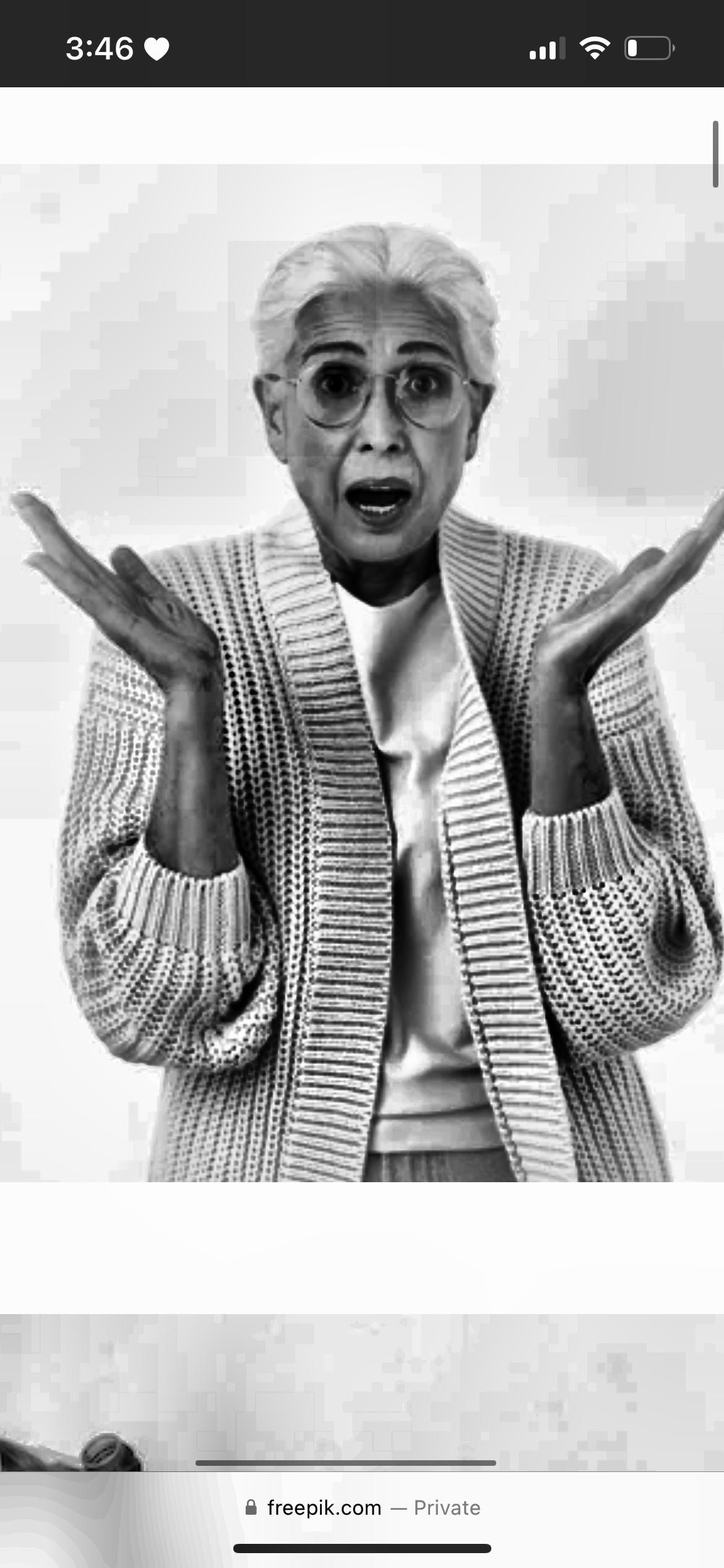surprised: (282, 298, 465, 564)
